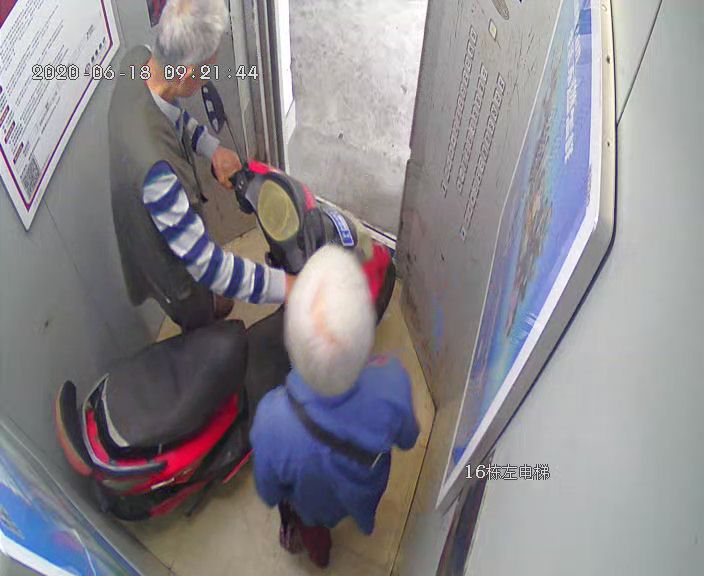Electric-bicycle: (55, 159, 397, 526)
